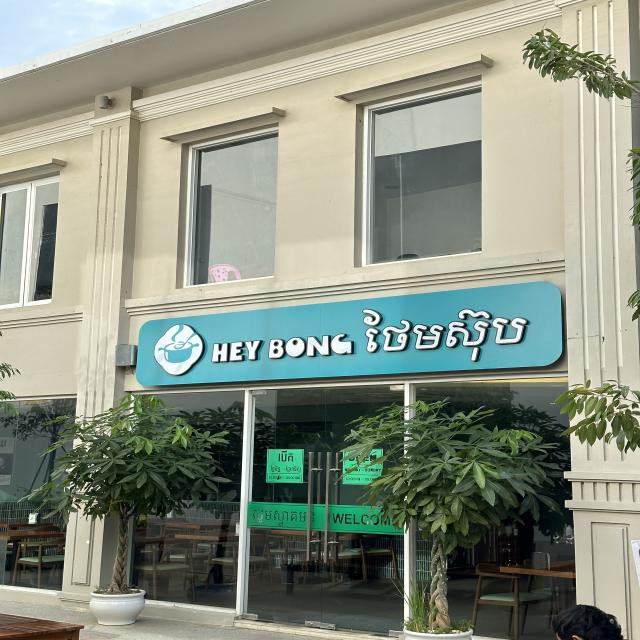Yolov11_80vkh: (353, 289, 536, 374), (245, 507, 316, 529), (273, 450, 301, 466)
